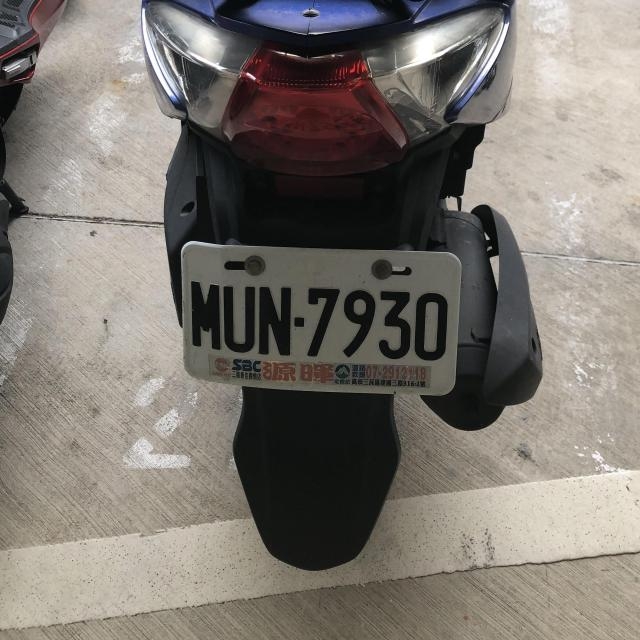W: (177, 242, 461, 396)
